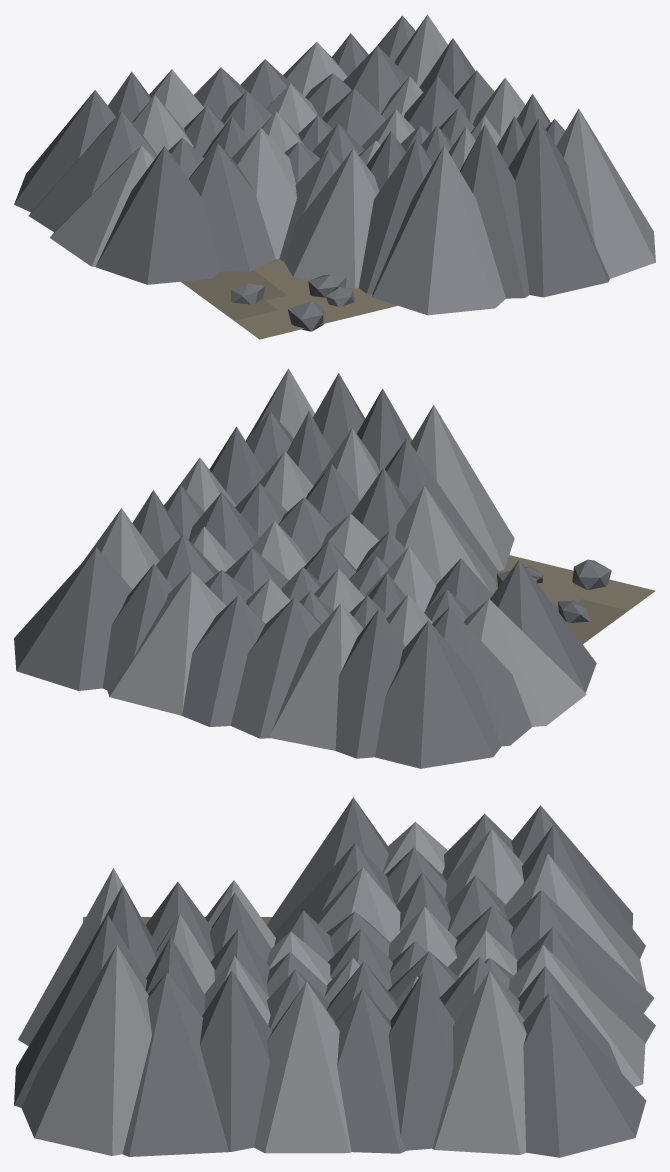
File: chunk_10_19.glb
The picture shows the model from 3 angles, top to bottom: view 1: azimuth 30°, elevation 25°; view 2: azimuth 150°, elevation 25°; view 3: azimuth 270°, elevation 25°; orthographic projection. The views are drawn at different scales.
Visible parts, largest first — view 1: chunk_10_19; view 2: chunk_10_19; view 3: chunk_10_19.
Boxes of the visible parts, x1,y1,x2,y2 form: chunk_10_19: [14, 14, 655, 339]; chunk_10_19: [14, 368, 655, 768]; chunk_10_19: [14, 797, 655, 1157].
Bounding box in the file's own units: 20.89 × 6.74 × 20.81.
